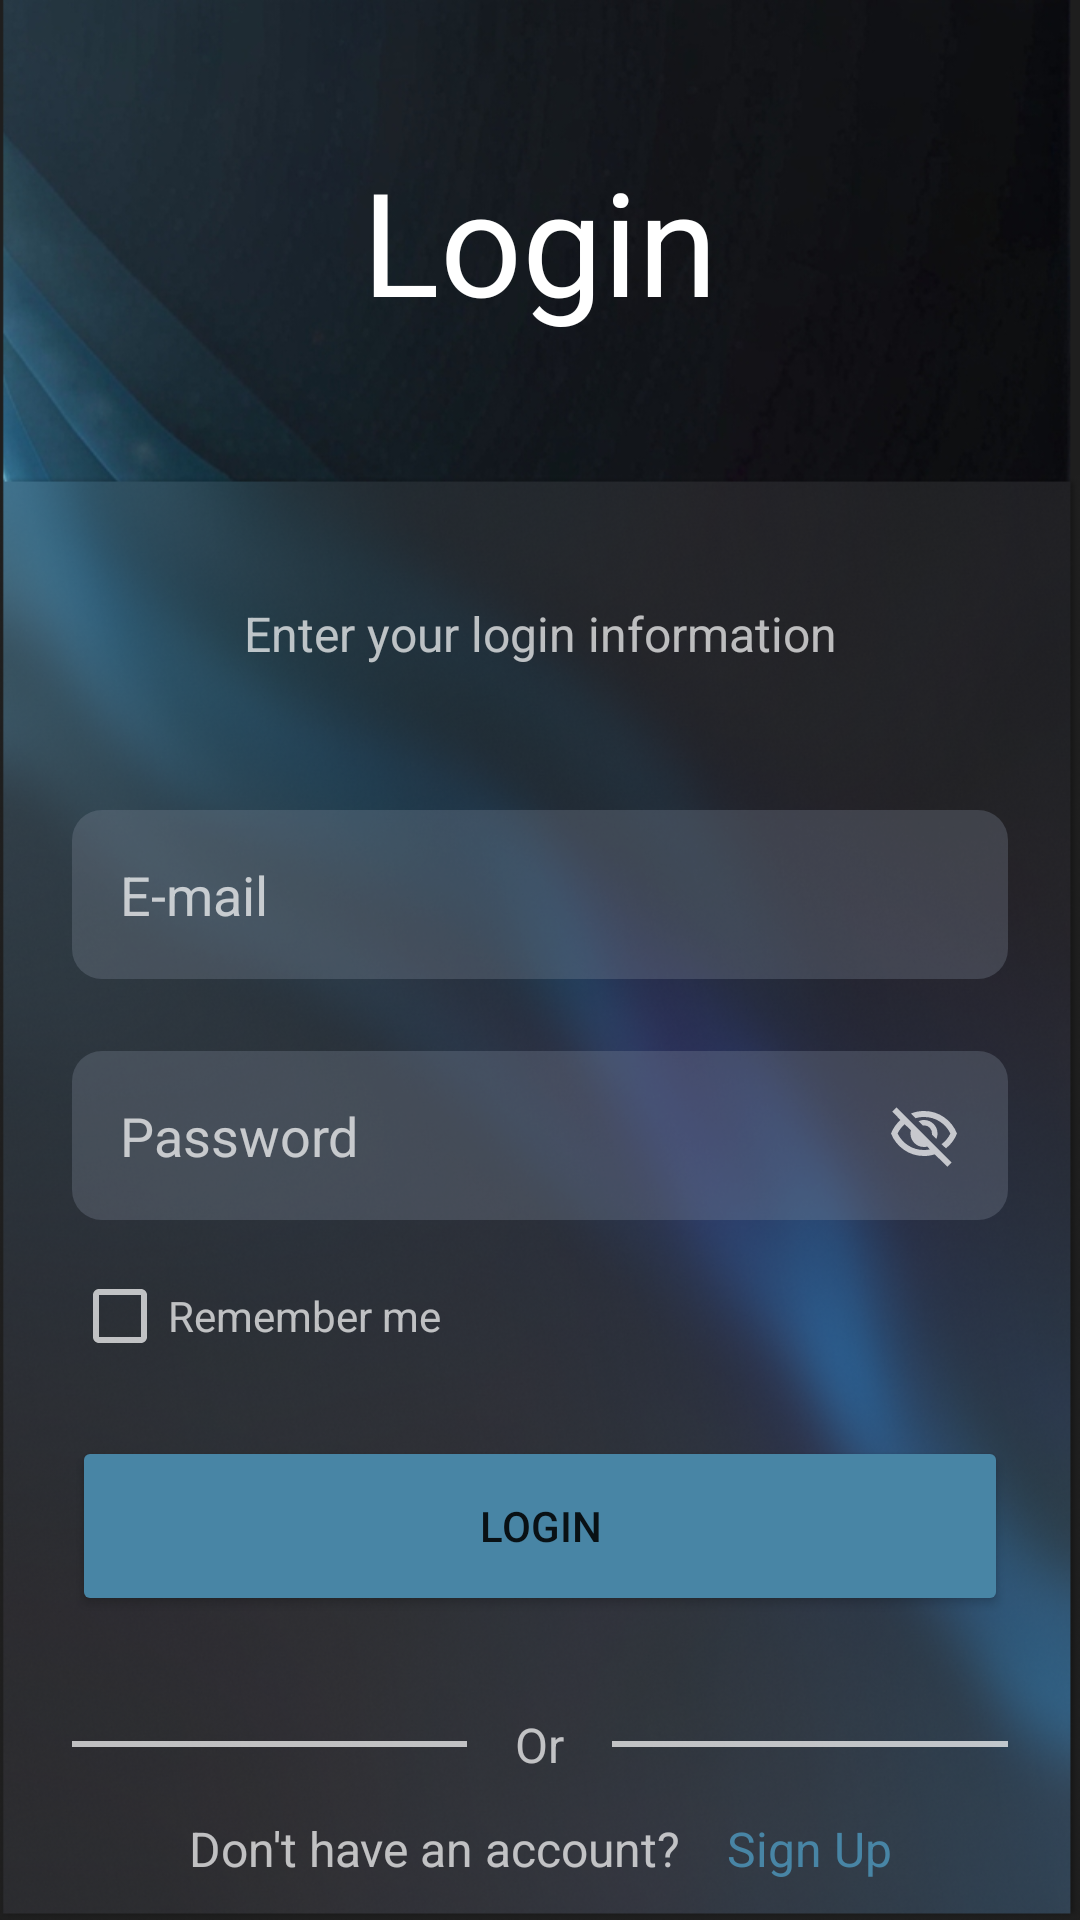

Icons on this 1080w x 1920h Android screen, each with the point to tap as point (x, y):
visibility off: point (924, 1137)
